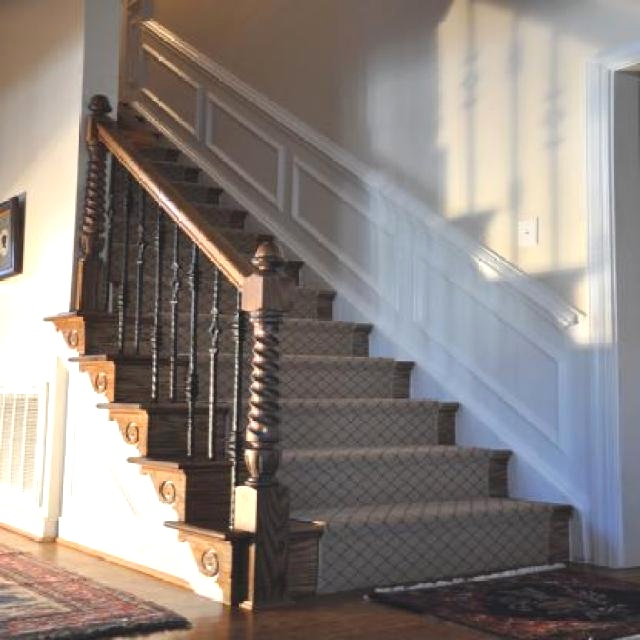stair: (80, 98, 582, 592)
